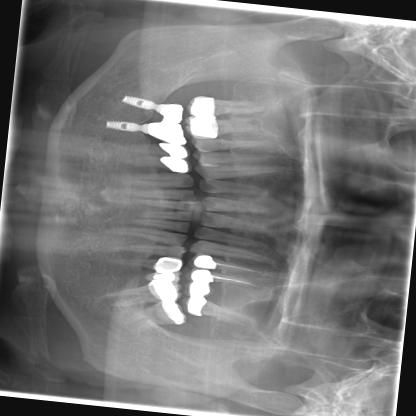Bicon: (99, 115, 146, 136), (114, 92, 160, 112)
